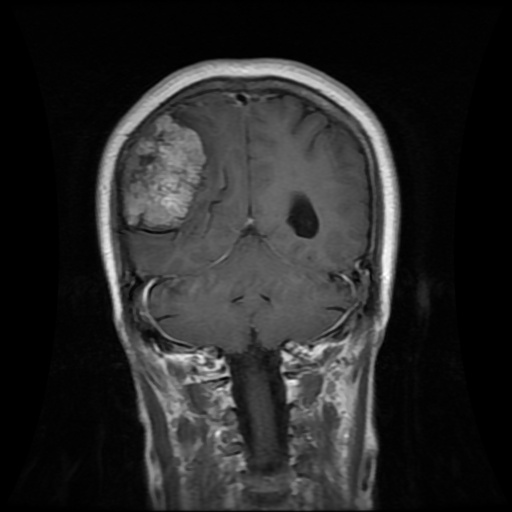meningioma: (122, 114, 207, 229)
